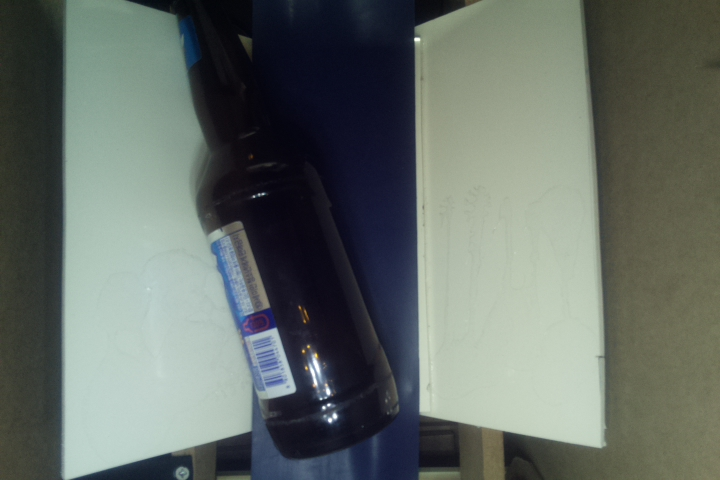makju: (170, 1, 406, 460)
